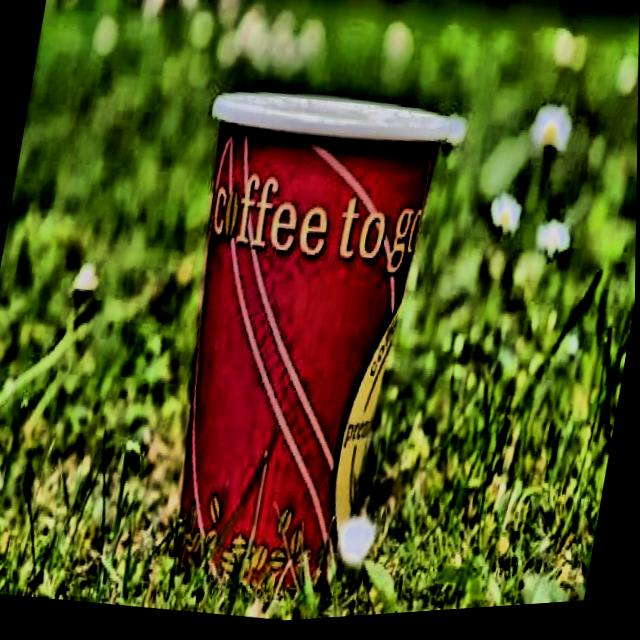Cup: (136, 58, 458, 603)
